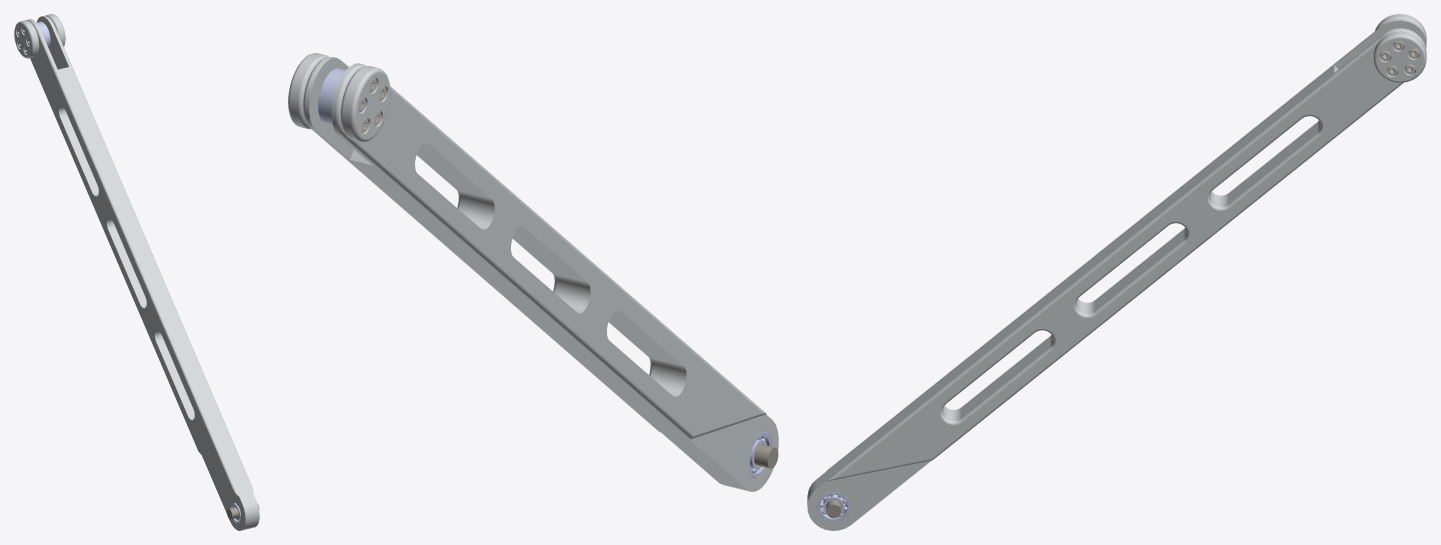
The picture shows the model from 3 angles, left to right: view 1: azimuth 30°, elevation 25°; view 2: azimuth 150°, elevation 25°; view 3: azimuth 270°, elevation 25°; orthographic projection. The views are drawn at different scales.
Visible parts, largest first — view 1: B2FINAL; view 2: B2FINAL; view 3: B2FINAL.
Part boxes in pixels (x1=…): B2FINAL: x1=14, y1=14, x2=259, y2=530; B2FINAL: x1=288, y1=53, x2=778, y2=491; B2FINAL: x1=807, y1=14, x2=1426, y2=530.
Bounding box in the file's own units: 0.036 × 0.3662 × 0.4095.
